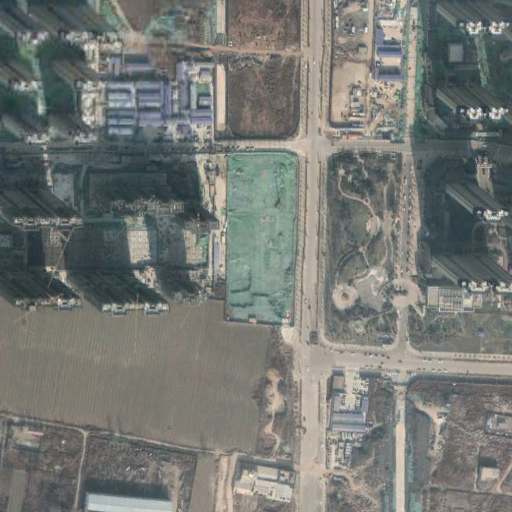cw: (223, 149, 298, 321)
